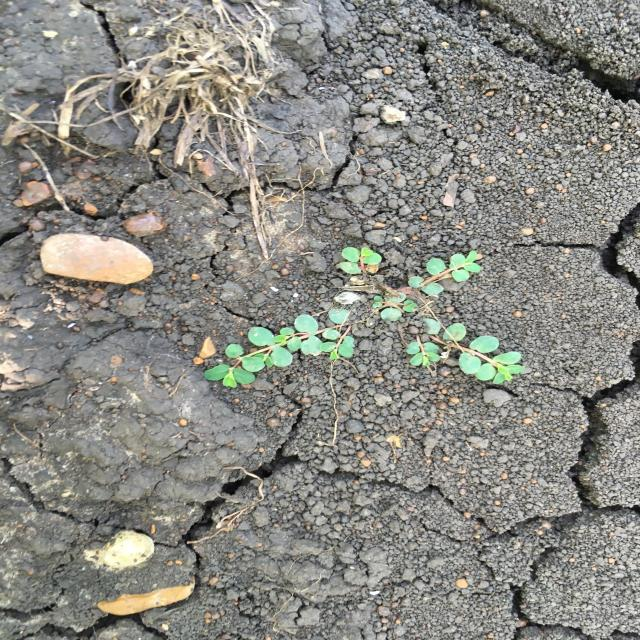SpottedSpurge: (203, 245, 528, 391)
